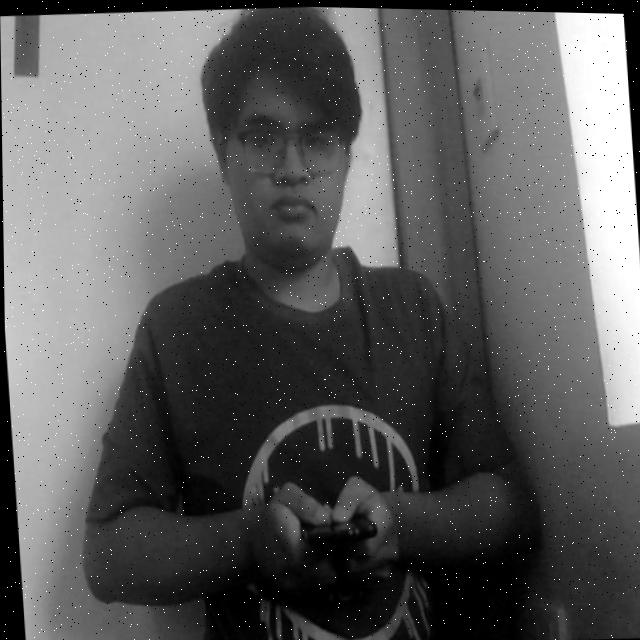phone: (282, 490, 384, 584)
